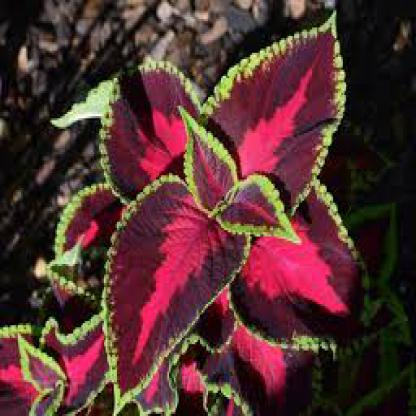Bunga Coleus: (60, 88, 360, 347)
